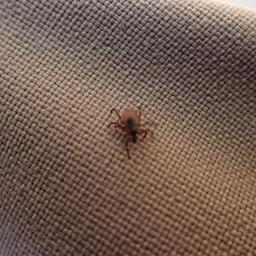Ixodes scapularis: (107, 107, 155, 160)
